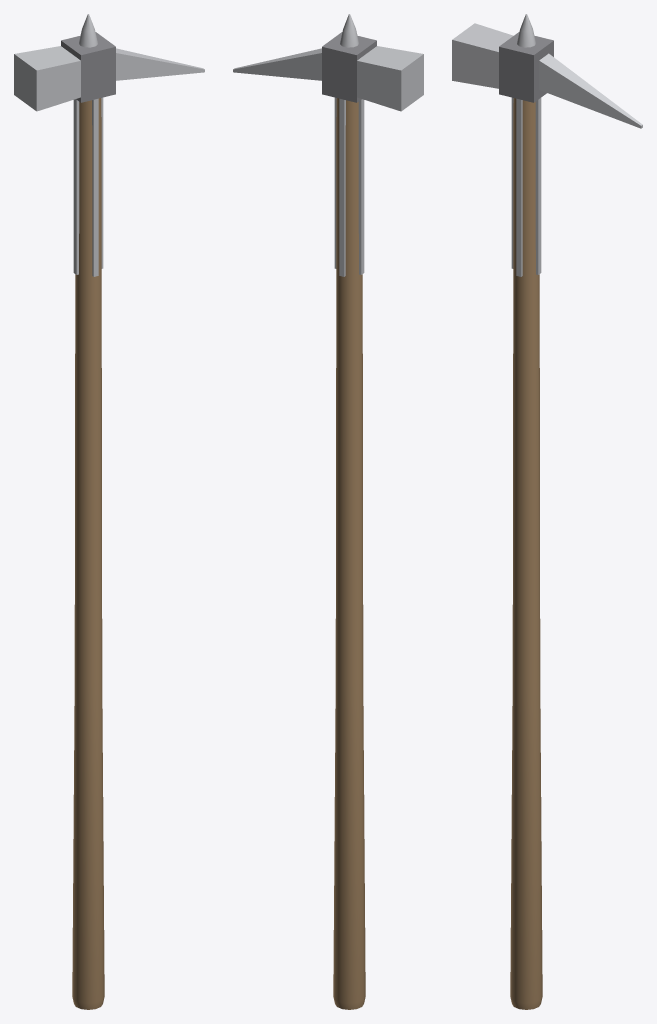
File: warhammer.glb
3 views of the same model, side by side, from view 1: azimuth 30°, elevation 25°; view 2: azimuth 150°, elevation 25°; view 3: azimuth 330°, elevation 25° (orthographic).
Parts seen in each view (by area): view 1: OUT; view 2: OUT; view 3: OUT.
Part boxes in pixels (x1=…): OUT: x1=14, y1=14, x2=204, y2=1009; OUT: x1=233, y1=14, x2=423, y2=1009; OUT: x1=452, y1=14, x2=642, y2=1009.
Size of the model in its own units: 0.255 by 1.35 by 0.056.
